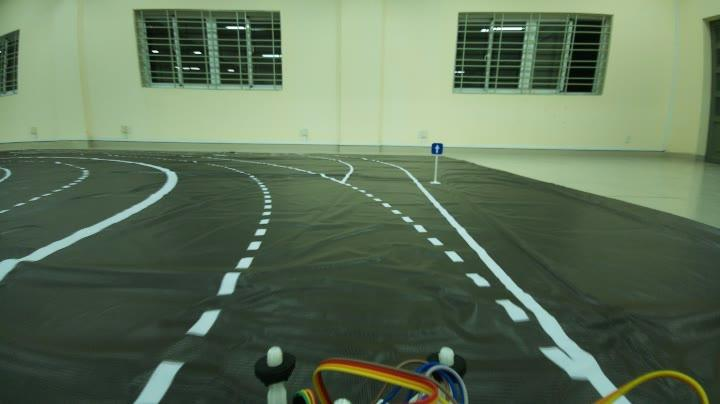onewayroad: (425, 137, 447, 155)
